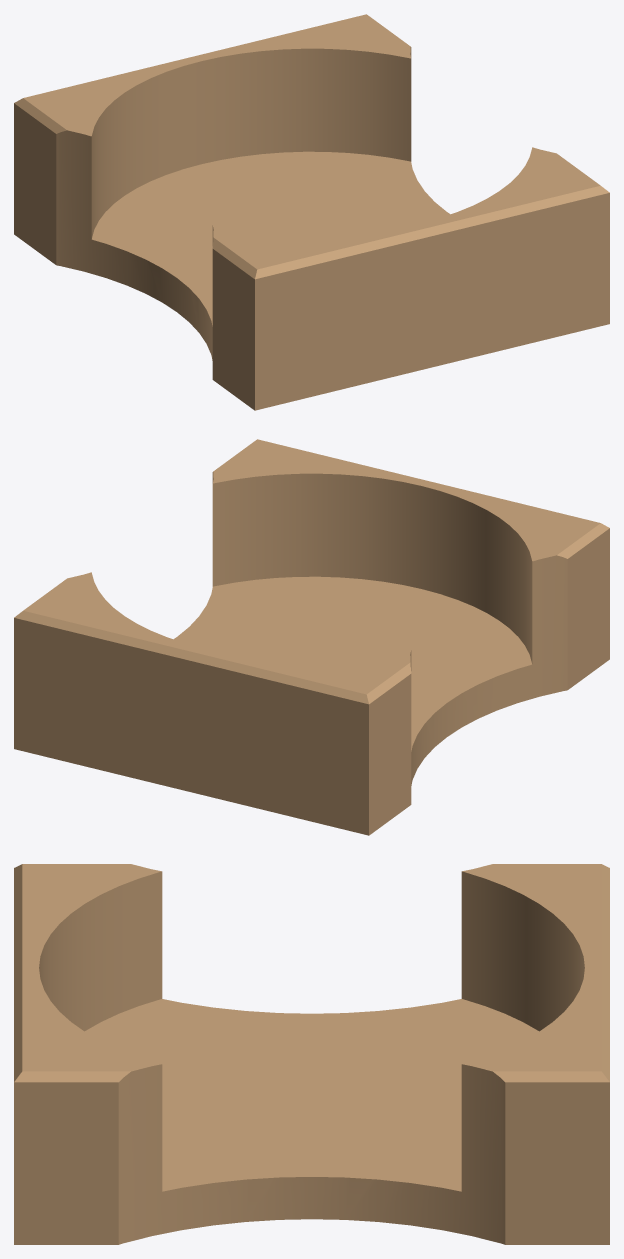
3 renders of one model, top to bottom at view 1: azimuth 30°, elevation 25°; view 2: azimuth 150°, elevation 25°; view 3: azimuth 270°, elevation 25°, orthographic. The views are drawn at different scales.
Visible parts, largest first — view 1: body; view 2: body; view 3: body.
Part boxes in pixels (box(x1,y1,x2,y2)): body: box(14, 14, 609, 410); body: box(14, 439, 609, 835); body: box(14, 864, 609, 1244).
Size of the model in its own units: 0.1538 by 0.0569 by 0.1807.
